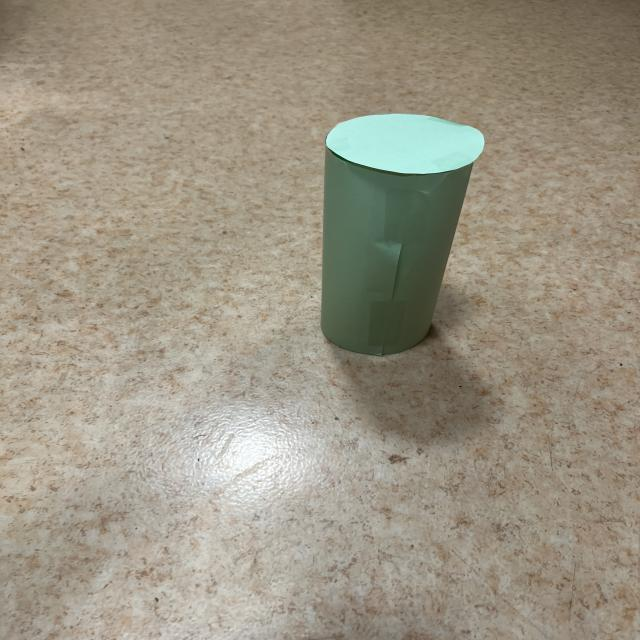meta: (321, 114, 484, 356)
